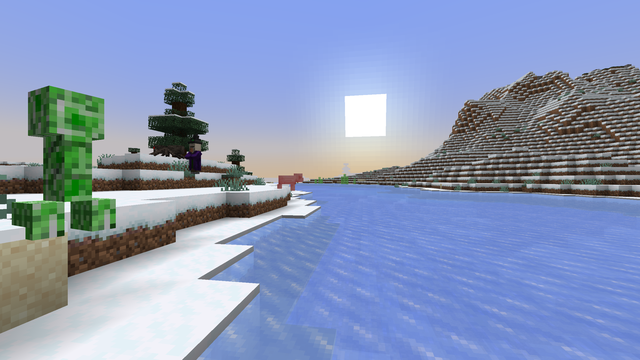araignees: (148, 142, 183, 158)
cochons: (277, 175, 296, 190)
creepers: (14, 78, 112, 238)
sorcieres: (187, 141, 201, 173)
